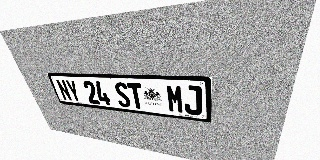2: (82, 81, 100, 104)
4: (93, 81, 111, 106)
J: (183, 85, 202, 116)
M: (166, 84, 184, 114)
N: (55, 79, 73, 101)
S: (113, 82, 132, 108)
T: (126, 82, 145, 109)
Y: (64, 80, 82, 102)
